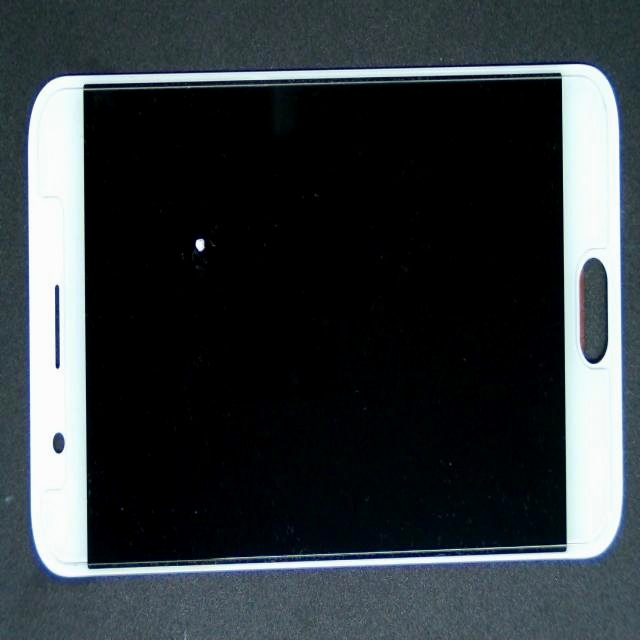stain: (109, 81, 288, 361)
